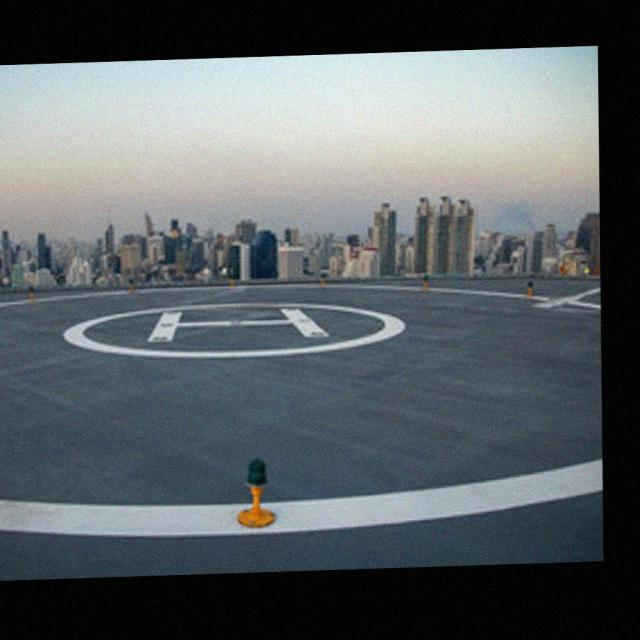helipad: (58, 299, 410, 363)
